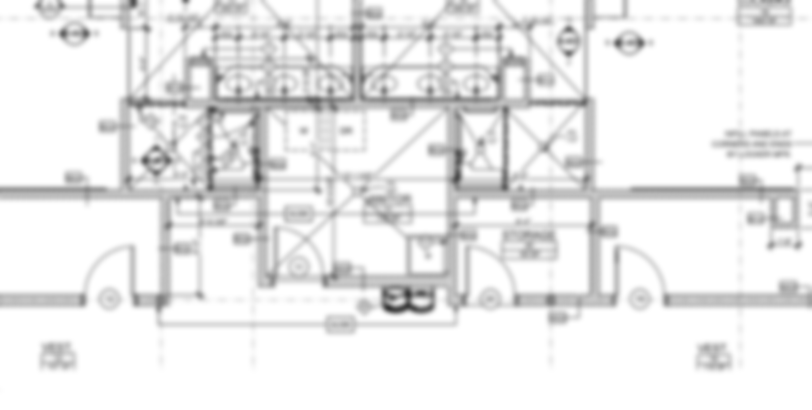door: (271, 224, 327, 281), (80, 243, 138, 298), (463, 245, 519, 300), (612, 243, 666, 299)
